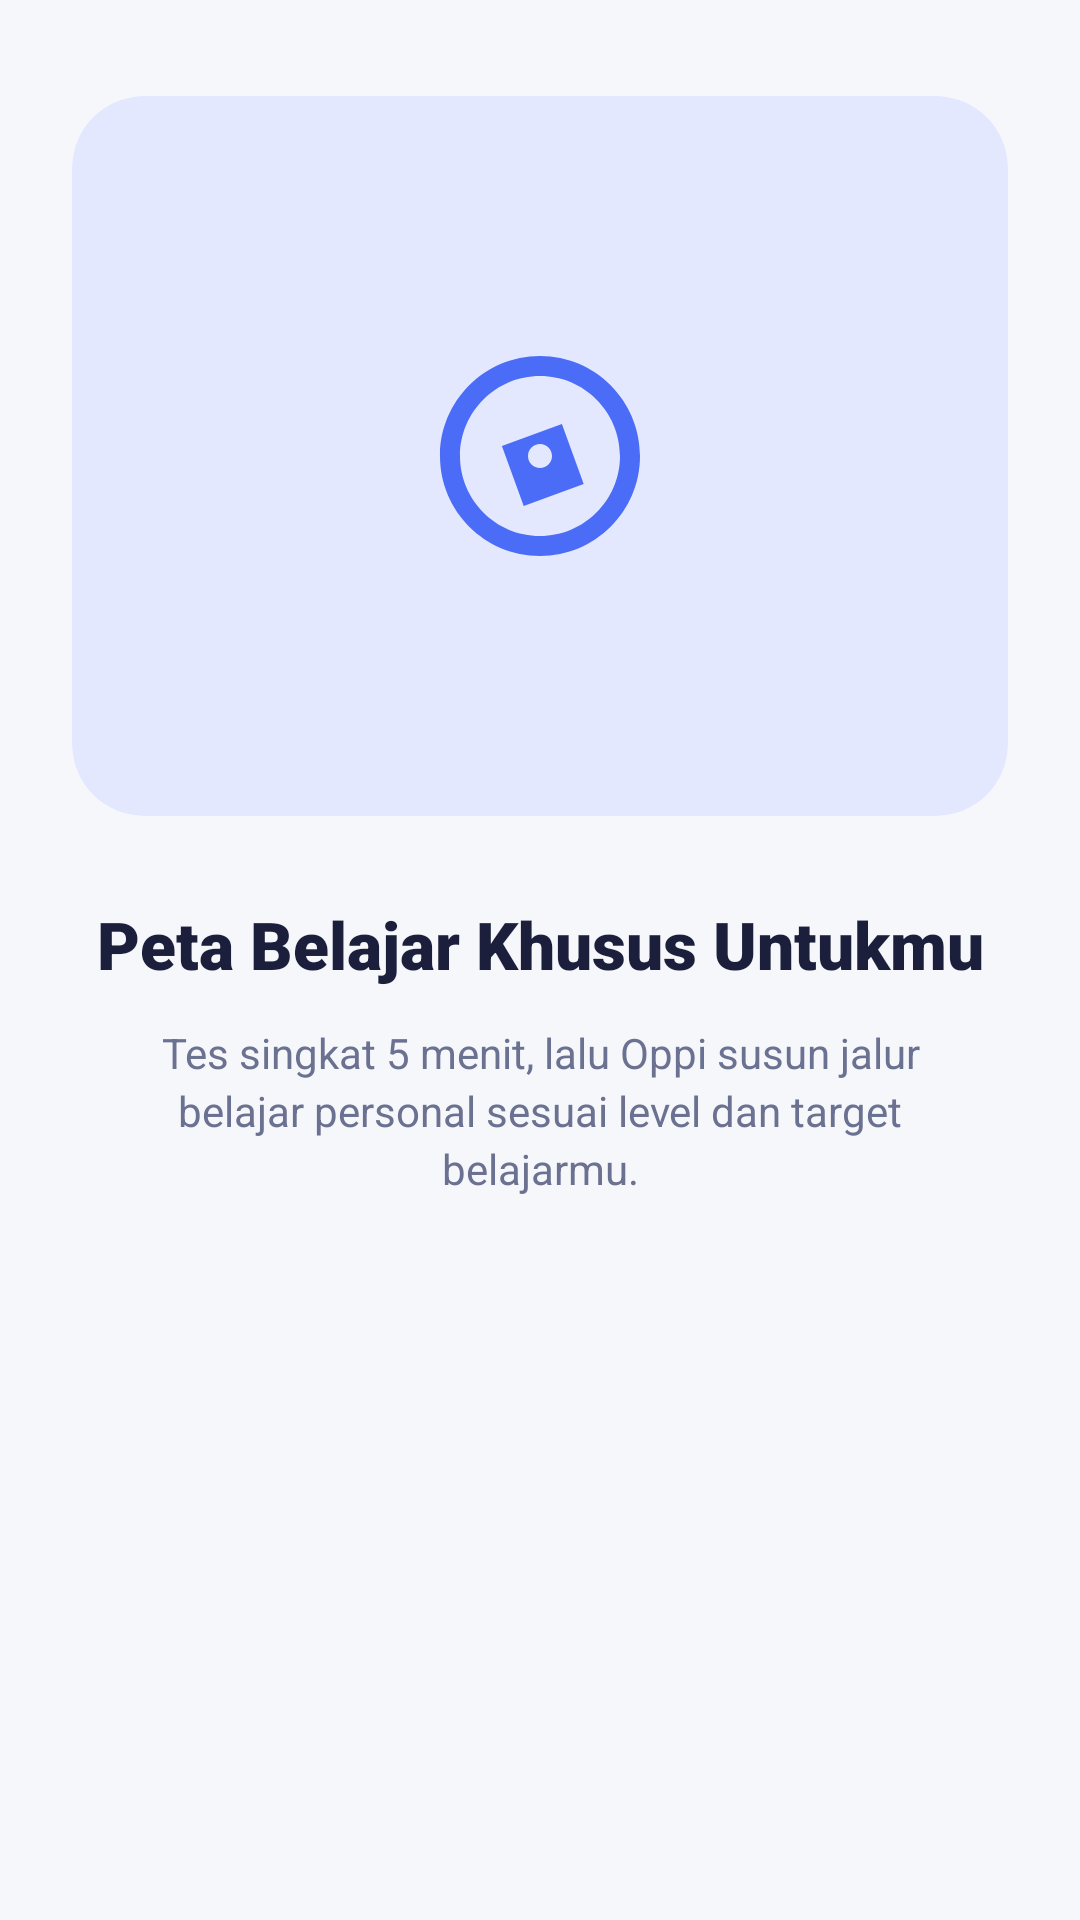

Where to tap for icons on this 1080 x 1920 app screen, as (x,y):
Ikon Peta Belajar: (540,456)
